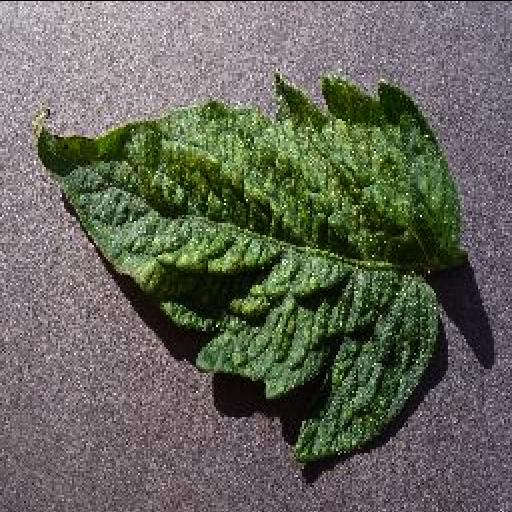disease_tomato: (35, 80, 465, 458)
